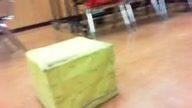cube: (25, 36, 119, 108)
